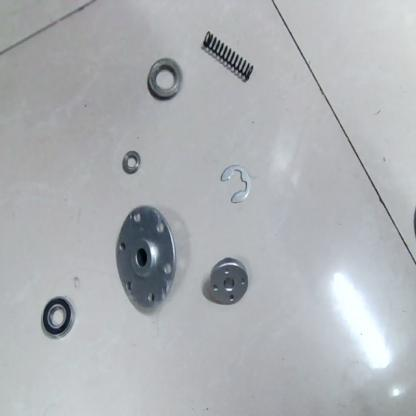FOD: (3, 1, 414, 412), (113, 204, 179, 316), (202, 27, 260, 83), (208, 256, 250, 307), (39, 294, 77, 343), (146, 57, 184, 104), (219, 165, 253, 206), (120, 148, 140, 174)
